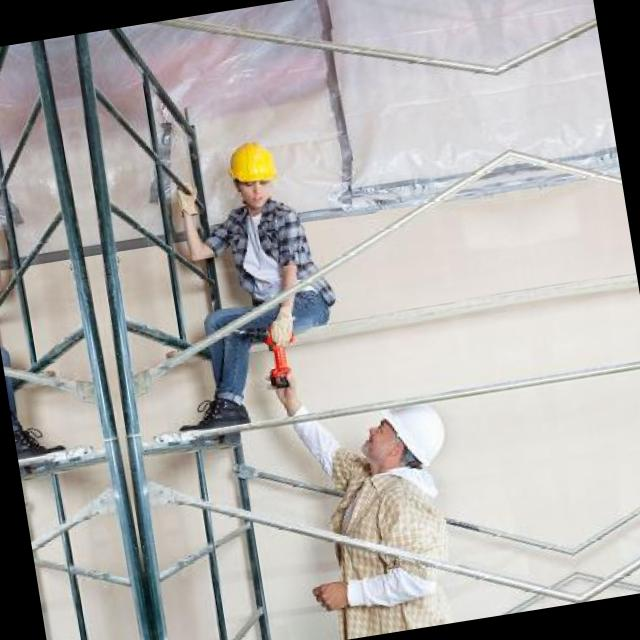helmet: (354, 402, 446, 478), (226, 134, 280, 208)
